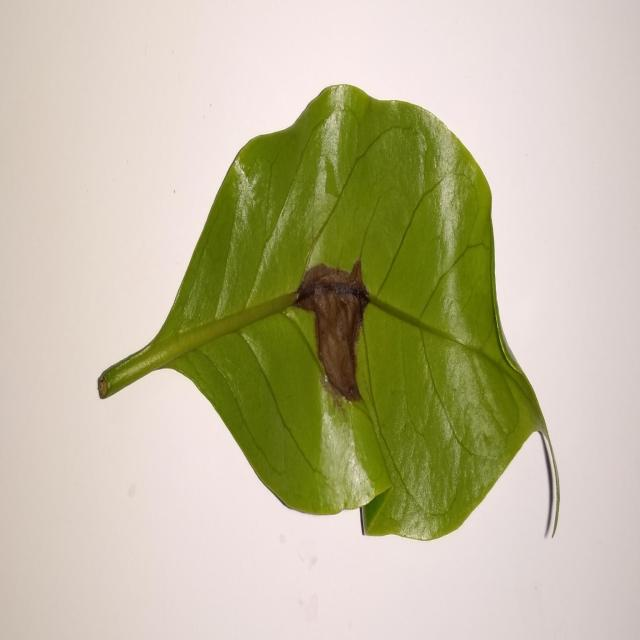Enfermedad-Antracnosis: (95, 86, 560, 546)
